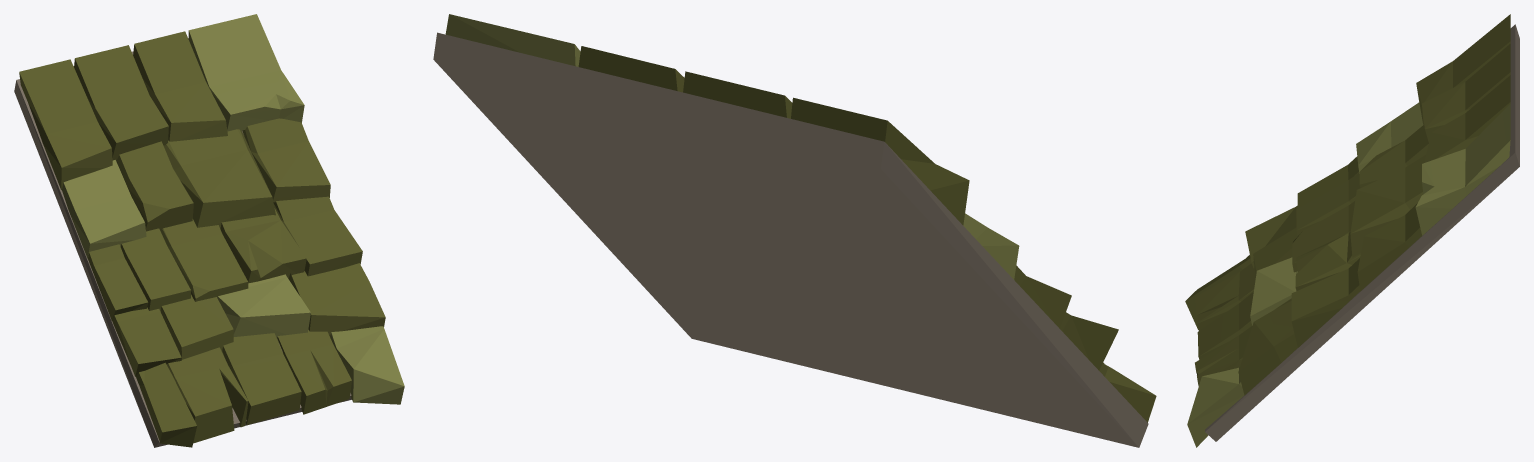
File: _ROOF_BASE_1.fbx
The picture shows the model from 3 angles, left to right: view 1: azimuth 30°, elevation 25°; view 2: azimuth 150°, elevation 25°; view 3: azimuth 270°, elevation 25°; orthographic projection. The views are drawn at different scales.
Visible parts, largest first — view 1: ROOF_BASE_1; view 2: ROOF_BASE_1; view 3: ROOF_BASE_1.
Part boxes in pixels (bbox=[...]): ROOF_BASE_1: bbox=[14, 14, 404, 447]; ROOF_BASE_1: bbox=[433, 14, 1156, 447]; ROOF_BASE_1: bbox=[1185, 14, 1519, 447].
Bounding box in the file's own units: 101 × 112 × 110.
